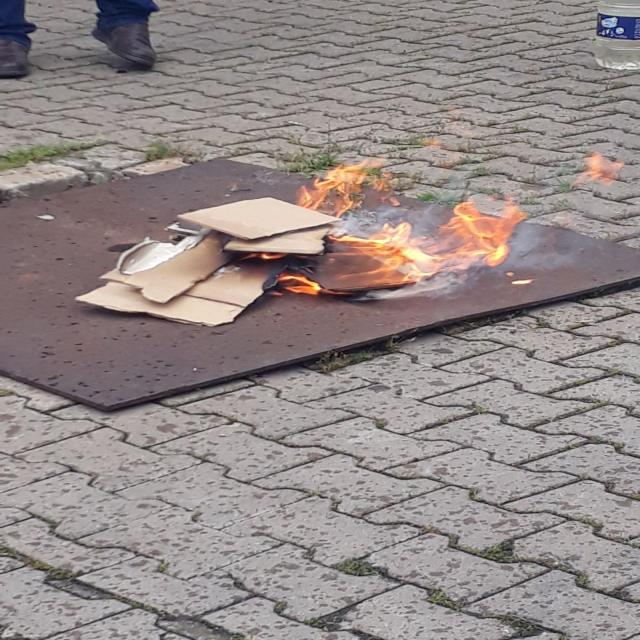fire: (270, 134, 617, 309)
